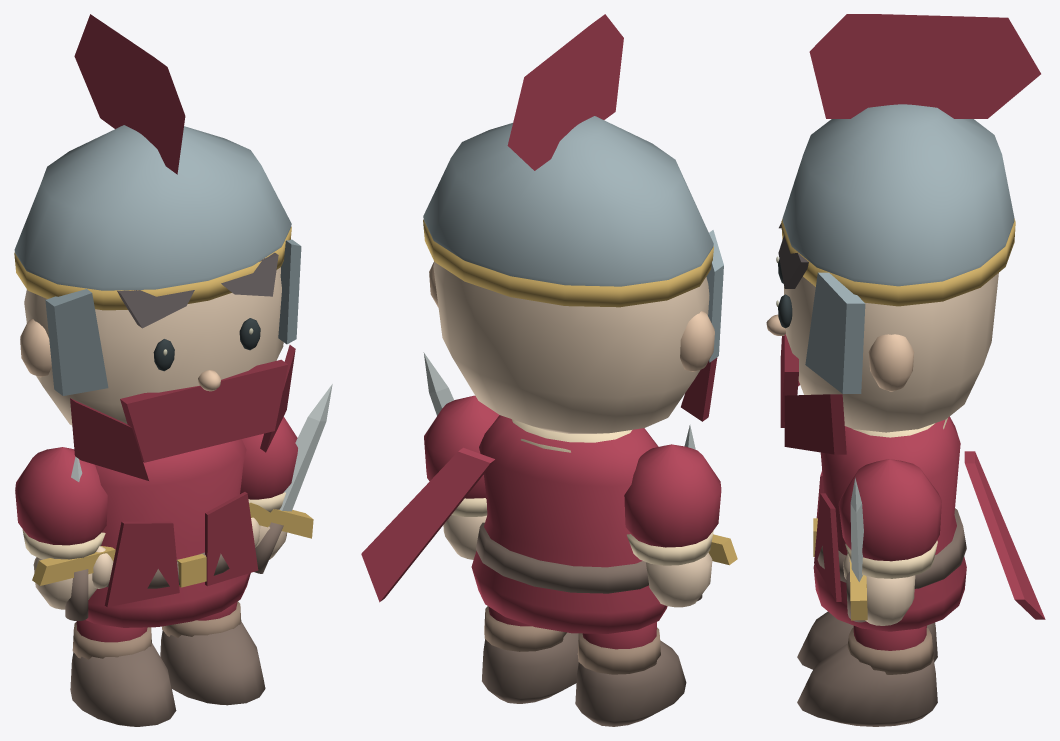
The model's file is assassin.glb.
3 views of the same model, side by side, from view 1: azimuth 30°, elevation 25°; view 2: azimuth 150°, elevation 25°; view 3: azimuth 270°, elevation 25° (orthographic). The views are drawn at different scales.
Parts seen in each view (by area): view 1: Regional helmet, Soft cheek head, Short folded tunic, Soft face mask, Roman horsehair fan, Puff sleeve, Round leather boot, Round leather boot.001, Roman cheekplate, Coat fold, Hood cheek cowl, Coat fold.001 (+21 smaller); view 2: Regional helmet, Soft cheek head, Short folded tunic, Roman horsehair fan, Puff sleeve, Long scarf tail, Helmet brow band, Round leather boot, Round leather boot.001, Broad leather belt, Puff sleeve.001, Little mitten (+11 smaller); view 3: Regional helmet, Roman horsehair fan, Soft cheek head, Short folded tunic, Puff sleeve.001, Round leather boot.001, Roman cheekplate.001, Helmet brow band, Hood cheek cowl R, Long scarf tail, Ear.001, Little mitten.001 (+10 smaller).
Part boxes in pixels (box(x1,y1,x2,y2)): Regional helmet: box(14, 125, 291, 290); Soft cheek head: box(24, 267, 283, 425); Short folded tunic: box(85, 439, 250, 627); Soft face mask: box(120, 359, 287, 462); Roman horsehair fan: box(74, 14, 185, 174); Puff sleeve: box(15, 447, 107, 545); Round leather boot: box(70, 643, 176, 726); Round leather boot.001: box(160, 621, 265, 705); Roman cheekplate: box(45, 289, 108, 395); Coat fold: box(104, 521, 179, 607); Hood cheek cowl: box(70, 398, 148, 480); Coat fold.001: box(205, 492, 258, 586); Regional helmet: box(423, 116, 713, 286); Soft cheek head: box(433, 262, 709, 433); Short folded tunic: box(471, 415, 667, 633); Roman horsehair fan: box(507, 14, 623, 170); Puff sleeve: box(624, 444, 721, 547); Long scarf tail: box(361, 447, 495, 602); Helmet brow band: box(423, 219, 713, 307); Round leather boot: box(575, 640, 686, 726); Round leather boot.001: box(482, 632, 578, 703); Broad leather belt: box(476, 522, 648, 593); Puff sleeve.001: box(424, 395, 499, 498); Little mitten: box(646, 552, 712, 607); Regional helmet: box(782, 104, 1014, 286); Roman horsehair fan: box(809, 14, 1040, 118); Soft cheek head: box(784, 273, 998, 432); Short folded tunic: box(813, 416, 966, 631); Puff sleeve.001: box(838, 459, 941, 561); Round leather boot.001: box(797, 643, 937, 726); Roman cheekplate.001: box(805, 272, 865, 393); Helmet brow band: box(781, 218, 1015, 306); Hood cheek cowl R: box(784, 394, 846, 454); Long scarf tail: box(964, 451, 1045, 619); Ear.001: box(868, 334, 914, 391); Little mitten.001: box(865, 575, 915, 625).
Bounding box in the file's own units: 0.8627 × 1.79 × 0.674.
